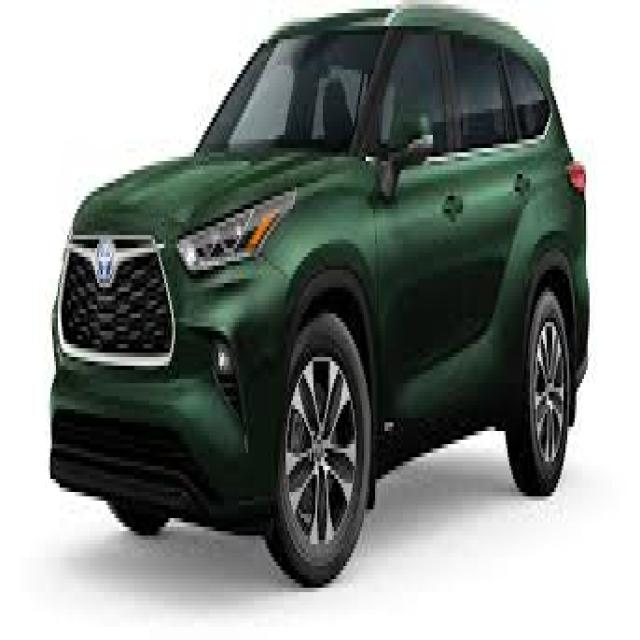light_vehicle: (48, 4, 590, 588)
